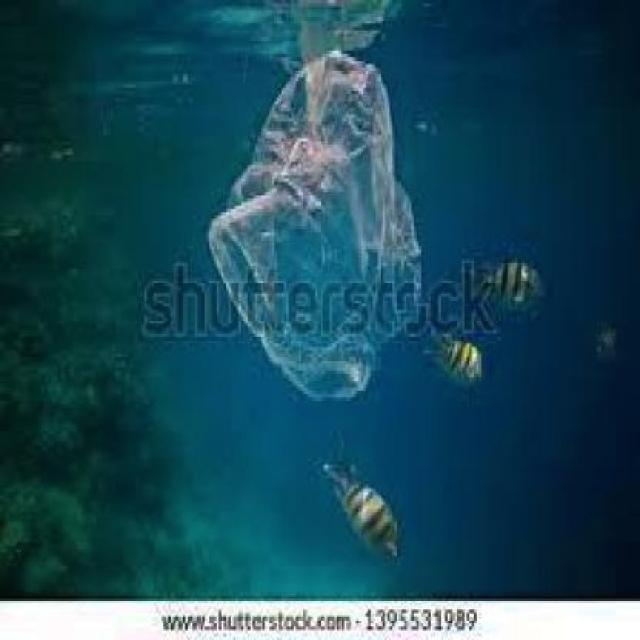pbag: (205, 43, 426, 405)
